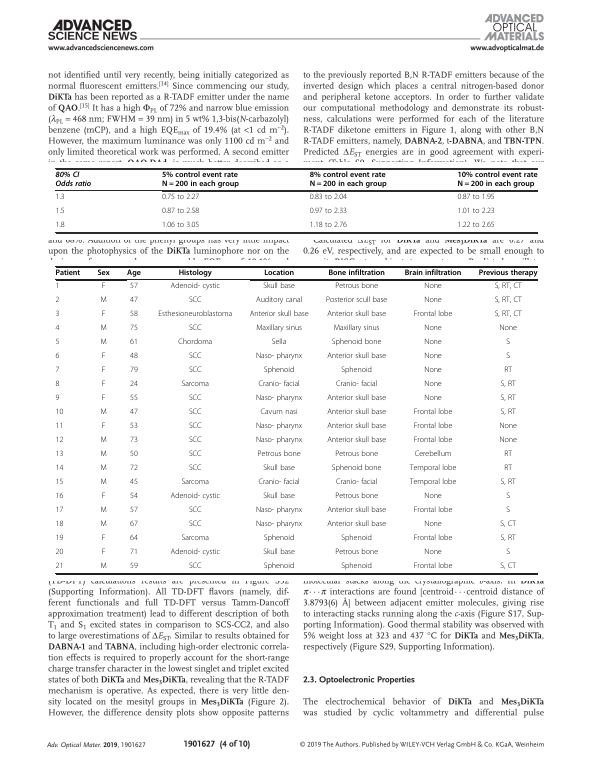borderless: (54, 265, 537, 573), (54, 167, 537, 232)
cell: (457, 171, 538, 189), (161, 171, 240, 189), (309, 171, 388, 189), (157, 310, 233, 320), (325, 296, 388, 306), (55, 171, 92, 188), (326, 310, 387, 320), (326, 352, 387, 362), (326, 394, 387, 404), (326, 408, 387, 418), (326, 422, 387, 432), (326, 436, 387, 446), (326, 506, 387, 516), (326, 520, 387, 530), (249, 310, 309, 320), (478, 269, 538, 278), (327, 269, 386, 278), (404, 269, 462, 278), (169, 282, 221, 292), (169, 492, 221, 502), (169, 548, 221, 558), (331, 338, 382, 348), (331, 464, 382, 474), (255, 296, 303, 306), (255, 324, 303, 334), (255, 352, 303, 362), (255, 394, 303, 404), (255, 422, 303, 432), (255, 436, 303, 446), (409, 464, 457, 474), (409, 478, 457, 488), (255, 506, 303, 516), (255, 520, 303, 530), (333, 324, 380, 334), (334, 282, 379, 292), (334, 450, 379, 460), (334, 492, 379, 502), (334, 548, 379, 558), (257, 380, 301, 390), (257, 450, 301, 460), (257, 478, 301, 488), (335, 380, 378, 390), (335, 478, 378, 488), (413, 310, 453, 320), (259, 408, 299, 418), (413, 408, 453, 418), (413, 422, 453, 432), (413, 436, 453, 446), (413, 506, 453, 516), (413, 534, 453, 544), (413, 562, 453, 572), (414, 450, 452, 460), (177, 338, 213, 348), (262, 282, 296, 292), (262, 464, 296, 474), (262, 492, 296, 502), (262, 548, 296, 558), (340, 366, 373, 376), (340, 534, 373, 544), (340, 562, 373, 572), (263, 366, 295, 376), (263, 534, 295, 544), (263, 562, 295, 572), (178, 269, 213, 278), (180, 380, 210, 390), (180, 478, 210, 488), (180, 534, 210, 544), (494, 282, 523, 292), (494, 296, 523, 306), (494, 310, 523, 320), (263, 269, 295, 278), (161, 194, 200, 201), (309, 194, 348, 201), (457, 194, 496, 201), (161, 208, 200, 215), (309, 208, 348, 215), (457, 208, 496, 215), (161, 222, 200, 229), (309, 222, 348, 229), (457, 222, 496, 229), (55, 269, 81, 278), (423, 282, 443, 292), (423, 296, 443, 306), (423, 324, 443, 334), (498, 324, 518, 334), (423, 338, 443, 348), (423, 352, 443, 362), (423, 366, 443, 376), (423, 380, 443, 390), (423, 394, 443, 404), (498, 422, 518, 432), (498, 436, 518, 446), (423, 492, 443, 502), (423, 520, 443, 530), (423, 548, 443, 558), (499, 520, 517, 530), (499, 562, 517, 572), (500, 380, 517, 390), (500, 394, 517, 404), (500, 408, 517, 418), (500, 478, 517, 488), (500, 534, 517, 544), (271, 338, 287, 348), (126, 269, 142, 278), (188, 296, 202, 306), (188, 324, 202, 334), (188, 352, 202, 362), (188, 366, 202, 376), (188, 394, 202, 404), (188, 408, 202, 418), (188, 422, 202, 432), (188, 436, 202, 446), (188, 450, 202, 460), (188, 464, 202, 474), (188, 506, 202, 516), (188, 520, 202, 530), (188, 562, 202, 572), (96, 269, 111, 278), (129, 282, 139, 292), (129, 296, 139, 306), (129, 310, 139, 320), (129, 324, 139, 334), (129, 338, 139, 348), (129, 352, 139, 362), (129, 366, 139, 376), (503, 366, 513, 376), (129, 380, 139, 390), (129, 394, 139, 404), (129, 408, 139, 418), (129, 422, 139, 432), (129, 436, 139, 446), (129, 450, 139, 460), (503, 450, 513, 460), (129, 464, 139, 474), (503, 464, 513, 474), (129, 478, 139, 488), (129, 492, 139, 502), (129, 506, 139, 516), (129, 520, 139, 530), (129, 534, 139, 544), (129, 548, 139, 558), (129, 562, 139, 572), (99, 296, 108, 306), (99, 324, 108, 334), (99, 338, 108, 348), (55, 408, 64, 418), (99, 408, 108, 418), (55, 422, 64, 432), (55, 436, 64, 446), (99, 436, 108, 446), (55, 450, 64, 460), (99, 450, 108, 460), (55, 464, 64, 474), (99, 464, 108, 474), (55, 478, 64, 488), (99, 478, 108, 488), (55, 492, 64, 502), (55, 506, 64, 516), (99, 506, 108, 516), (55, 520, 64, 530), (99, 520, 108, 530), (55, 534, 64, 544), (55, 548, 64, 558), (55, 562, 64, 572), (99, 562, 108, 572), (55, 194, 65, 201), (55, 208, 65, 215), (55, 222, 65, 229), (505, 338, 511, 348), (505, 352, 511, 362), (505, 492, 511, 502), (505, 506, 511, 516), (505, 548, 511, 558), (55, 282, 60, 292), (101, 282, 106, 292), (55, 296, 60, 306), (55, 310, 60, 320), (101, 310, 106, 320), (55, 324, 60, 334), (55, 338, 60, 348), (55, 352, 60, 362), (101, 352, 106, 362), (55, 366, 60, 376), (101, 366, 106, 376), (55, 380, 60, 390), (101, 380, 106, 390), (55, 394, 60, 404), (101, 394, 106, 404), (101, 422, 106, 432), (101, 492, 106, 502), (101, 534, 106, 544), (101, 548, 106, 558)
